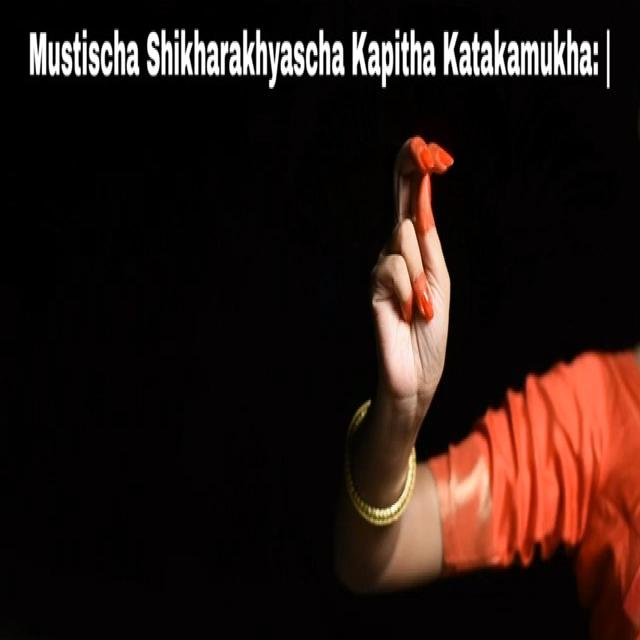Katakamukha: (357, 116, 476, 451)
bangle: (339, 448, 430, 536)
text: (19, 0, 616, 104)
